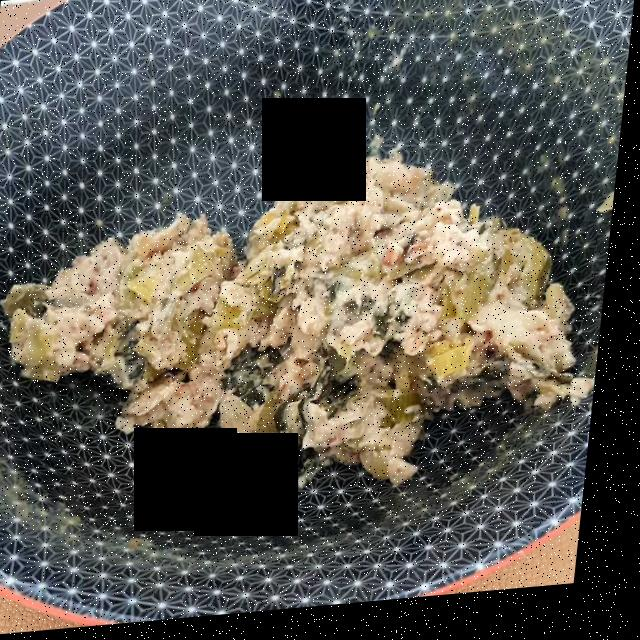chinese-cabbage: (79, 285, 528, 447)
leek: (15, 161, 579, 486)
